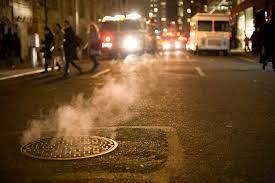closed manhole-not overflowing-: (21, 135, 121, 162)
